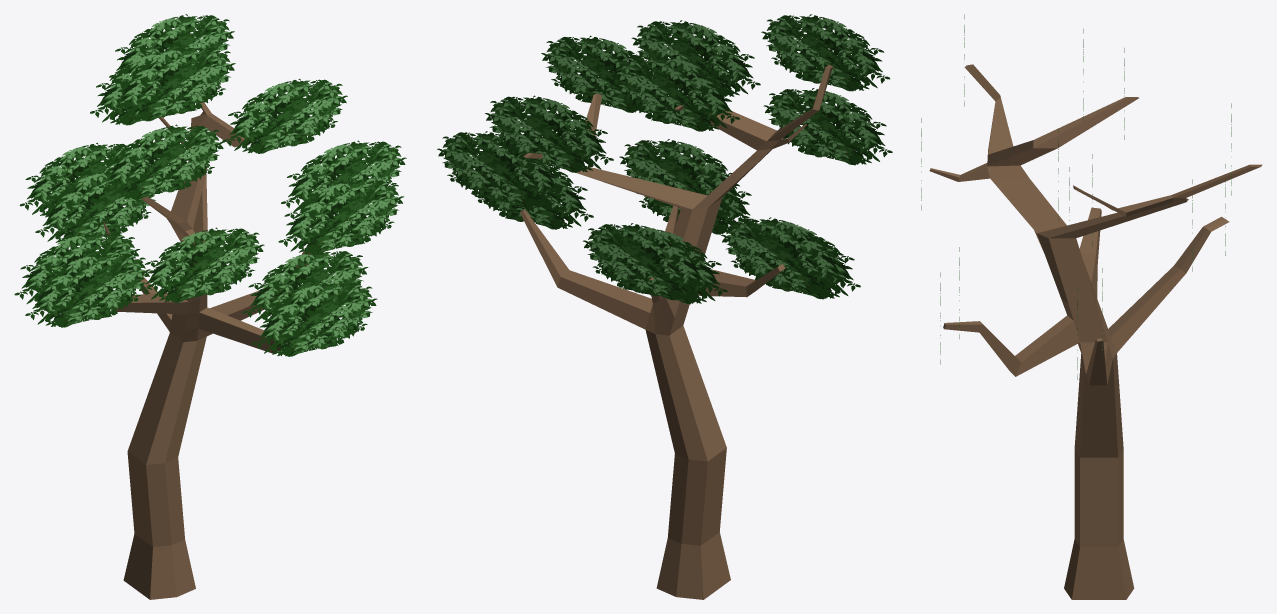
The model's file is TreewithLeaf.fbx.
3 renders of one model, left to right at view 1: azimuth 30°, elevation 25°; view 2: azimuth 150°, elevation 25°; view 3: azimuth 270°, elevation 25°, orthographic. The views are drawn at different scales.
Visible parts, largest first — view 1: Leaf.010; view 2: Leaf.010; view 3: Leaf.010.
Boxes of the visible parts, <box> form: Leaf.010: <box>14,14,406,599</box>; Leaf.010: <box>437,14,892,599</box>; Leaf.010: <box>921,14,1262,599</box>.
Bounding box in the file's own units: 1731 × 2242 × 1251.
2 materials, 1 textured.
